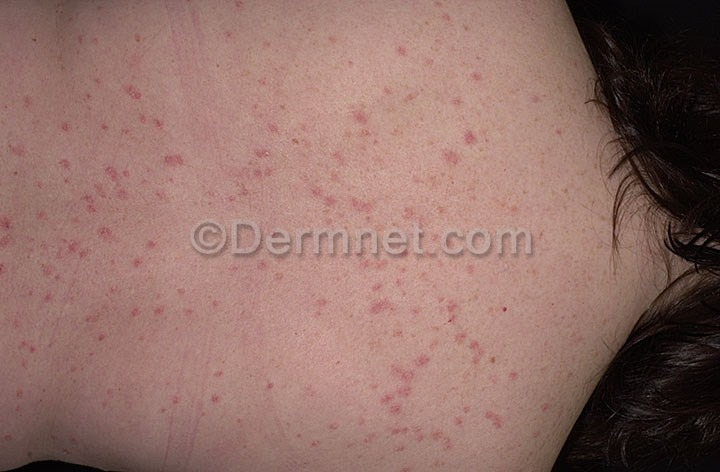Psoriasis: (314, 274, 500, 458), (278, 42, 476, 211), (31, 117, 179, 331), (193, 121, 293, 208)
